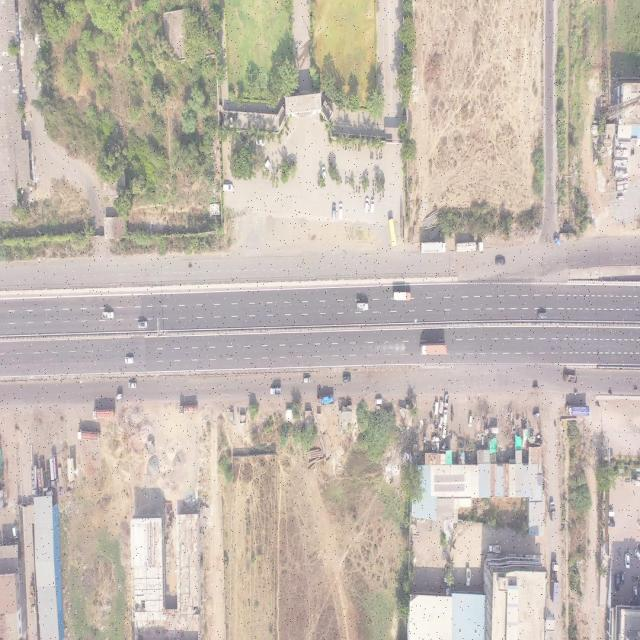3W: (532, 410, 542, 420), (116, 392, 123, 401), (533, 385, 540, 390)
Bus: (388, 217, 397, 247)
Cars: (331, 202, 338, 222), (338, 198, 344, 221), (136, 320, 149, 330), (255, 136, 265, 148), (320, 166, 328, 181), (624, 552, 631, 569), (223, 182, 234, 192), (125, 355, 135, 366), (615, 573, 621, 591), (495, 257, 507, 266), (263, 158, 270, 172), (633, 548, 640, 561), (128, 380, 137, 390), (467, 413, 473, 428), (538, 311, 548, 320), (342, 374, 351, 383), (370, 197, 375, 213), (304, 374, 312, 384), (365, 195, 369, 214), (633, 585, 638, 600), (444, 408, 448, 424), (440, 398, 444, 414), (434, 401, 438, 415), (439, 415, 443, 428)
LCV: (465, 566, 472, 589), (488, 543, 502, 554), (99, 310, 115, 319), (269, 386, 282, 395)
M2W: (607, 387, 614, 396), (633, 386, 639, 394), (187, 265, 194, 271), (573, 390, 579, 396), (372, 177, 375, 187), (359, 176, 362, 185), (379, 192, 382, 201), (273, 173, 276, 181), (345, 176, 347, 185), (356, 185, 358, 194), (372, 151, 374, 160), (340, 175, 342, 184), (376, 152, 378, 161), (349, 176, 351, 185), (381, 152, 383, 160), (353, 187, 355, 195), (350, 144, 352, 151), (355, 144, 357, 151), (358, 186, 360, 193)
MAV: (550, 558, 559, 606), (455, 241, 484, 253)
Truck: (77, 426, 101, 442), (419, 344, 448, 357), (564, 404, 590, 417), (420, 241, 446, 253), (93, 408, 118, 420), (178, 403, 198, 415), (317, 393, 335, 406), (563, 371, 578, 385), (393, 290, 412, 301), (549, 499, 557, 523), (356, 302, 369, 312)
